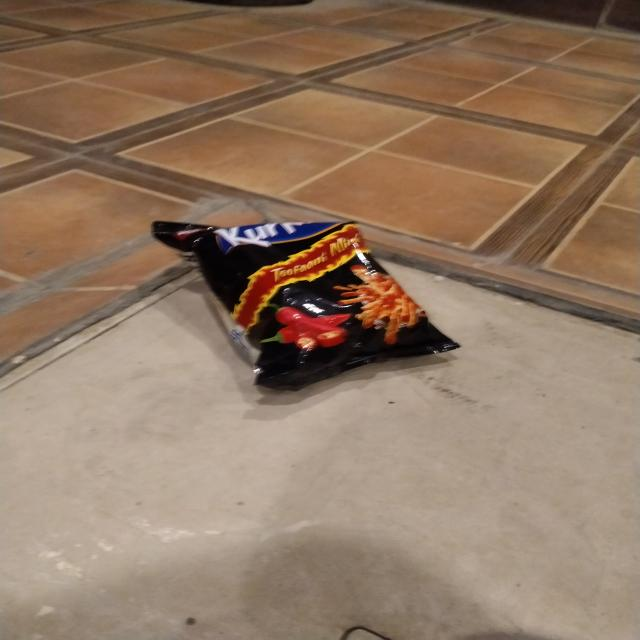Plastic: (143, 206, 461, 398)
